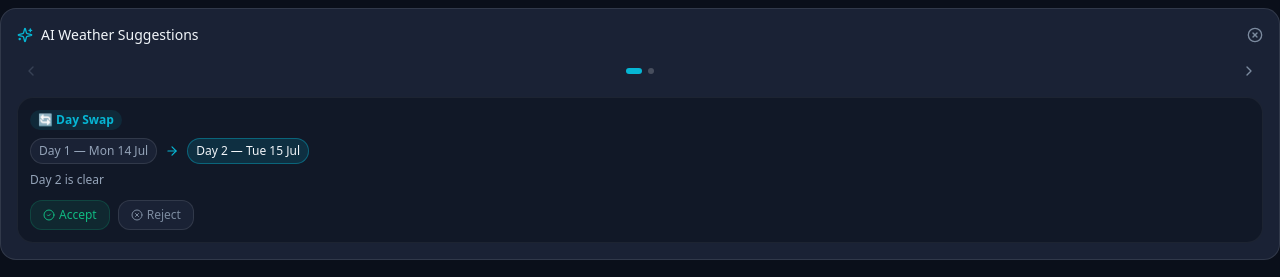
stepping through several › drops the controls once only one is left
This screenshot has width=1280, height=277.
Click the button with test id "reject-suggestion-btn": (156, 215) [118,200,194,230]
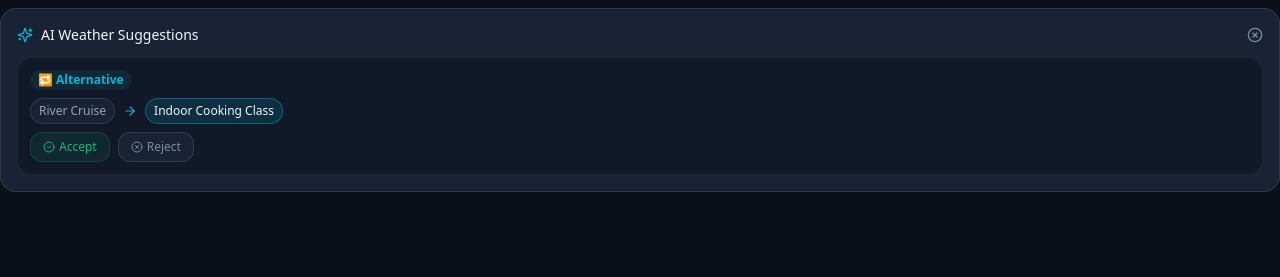
Expected: the element with test id "suggestion-carousel" is gone
